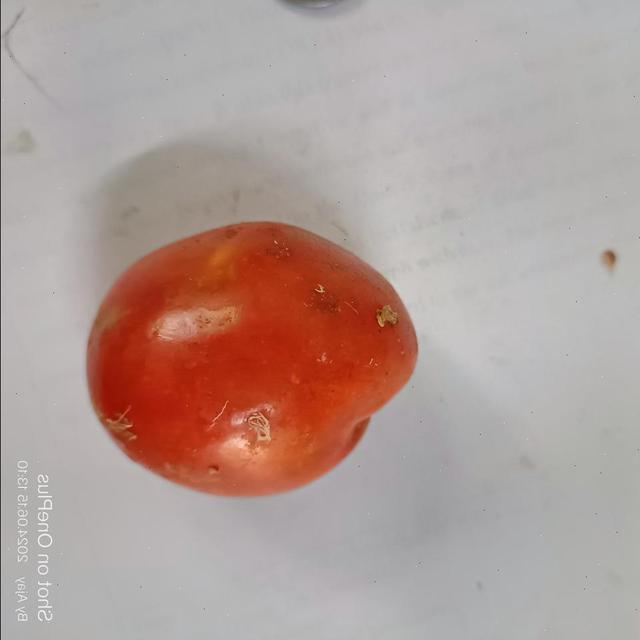Bacterial Spot Fruit: (247, 198, 268, 223)
